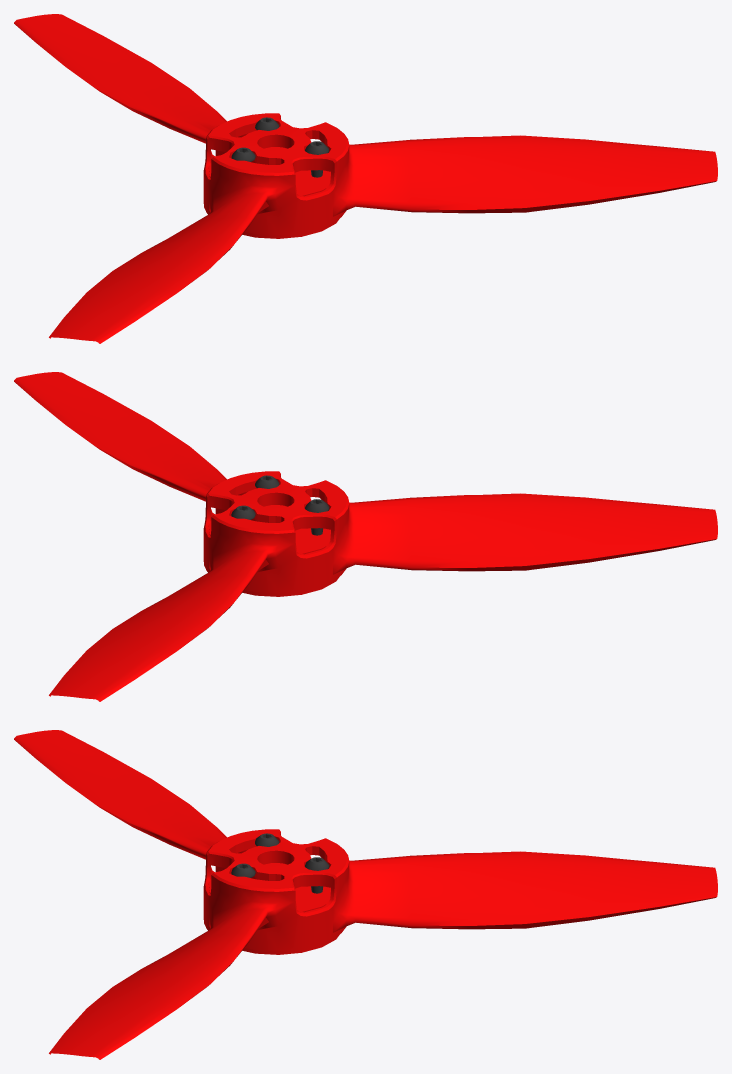
Rendered from propeller_fr_red.dae.
The picture shows the model from 3 angles, top to bottom: view 1: azimuth 30°, elevation 25°; view 2: azimuth 150°, elevation 25°; view 3: azimuth 270°, elevation 25°; orthographic projection.
Visible parts, largest first — view 1: Helice_Avant_Droite; view 2: Helice_Avant_Droite; view 3: Helice_Avant_Droite.
Part boxes in pixels (left/top/right/bottom): Helice_Avant_Droite: left=14, top=14, right=717, bottom=343; Helice_Avant_Droite: left=14, top=372, right=717, bottom=701; Helice_Avant_Droite: left=14, top=730, right=717, bottom=1059.
Bounding box in the file's own units: 0.1359 × 0.121 × 0.0137.
